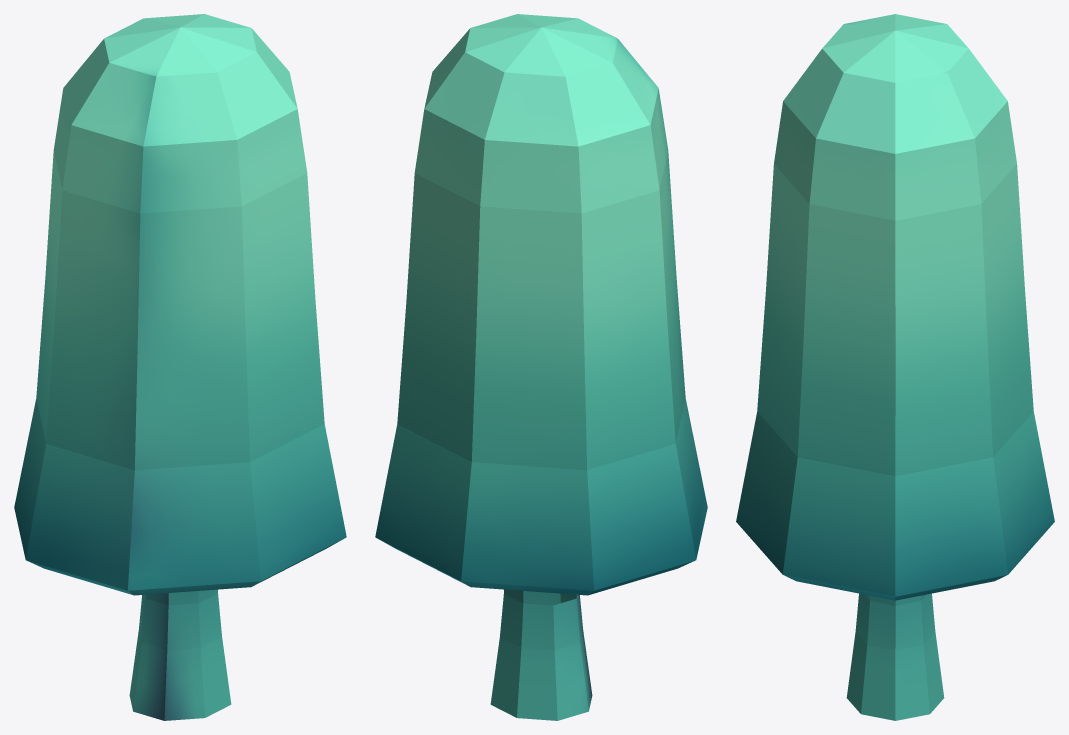
The model's file is long_mushroom_01.fbx.
3 renders of one model, left to right at view 1: azimuth 30°, elevation 25°; view 2: azimuth 150°, elevation 25°; view 3: azimuth 270°, elevation 25°, orthographic.
Visible parts, largest first — view 1: Long mushroom_01; view 2: Long mushroom_01; view 3: Long mushroom_01.
Part boxes in pixels (x1,y1,x2,y2): Long mushroom_01: (14, 14, 346, 720); Long mushroom_01: (375, 14, 707, 720); Long mushroom_01: (736, 14, 1054, 720).
Bounding box in the file's own units: 0.3821 × 0.7931 × 0.3435.
Materials: 1 (1 with a texture image).
